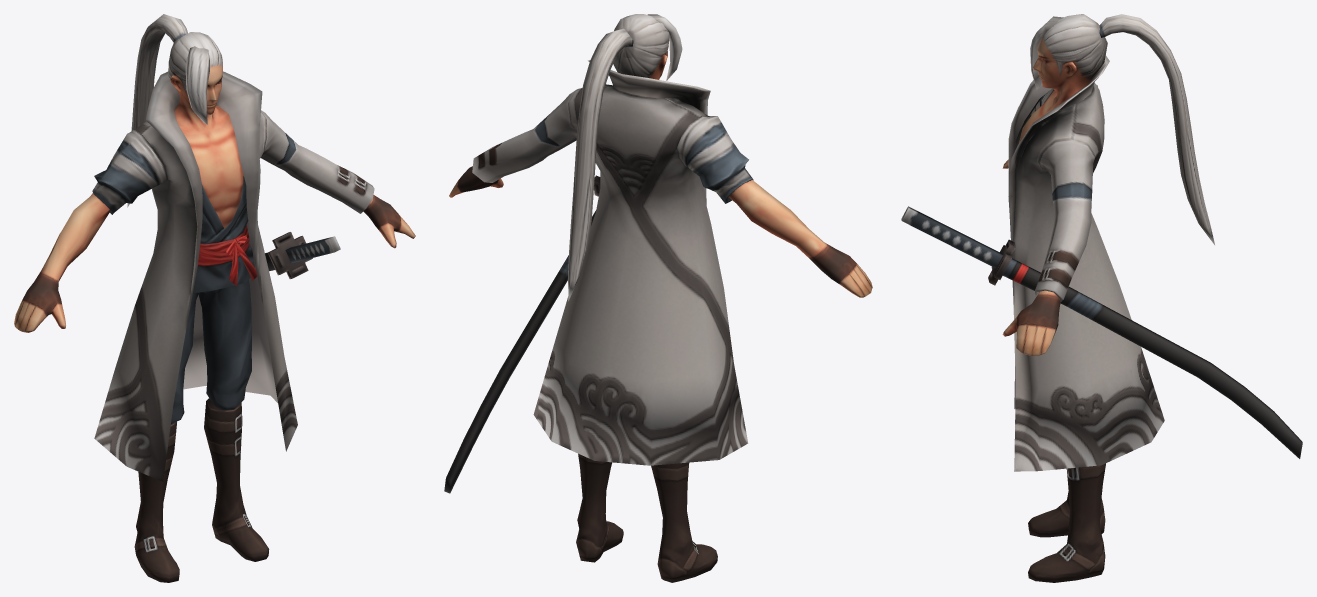
3 views of the same model, side by side, from view 1: azimuth 30°, elevation 25°; view 2: azimuth 150°, elevation 25°; view 3: azimuth 270°, elevation 25° (orthographic). The views are drawn at different scales.
Visible parts, largest first — view 1: Kaiken_body; view 2: Kaiken_body; view 3: Kaiken_body.
Boxes of the visible parts, x1,y1,x2,y2 form: Kaiken_body: [14, 14, 415, 582]; Kaiken_body: [444, 14, 872, 582]; Kaiken_body: [901, 14, 1302, 582].
Bounding box in the file's own units: 1.53 × 1.93 × 1.3.
Materials: 1 (1 with a texture image).
